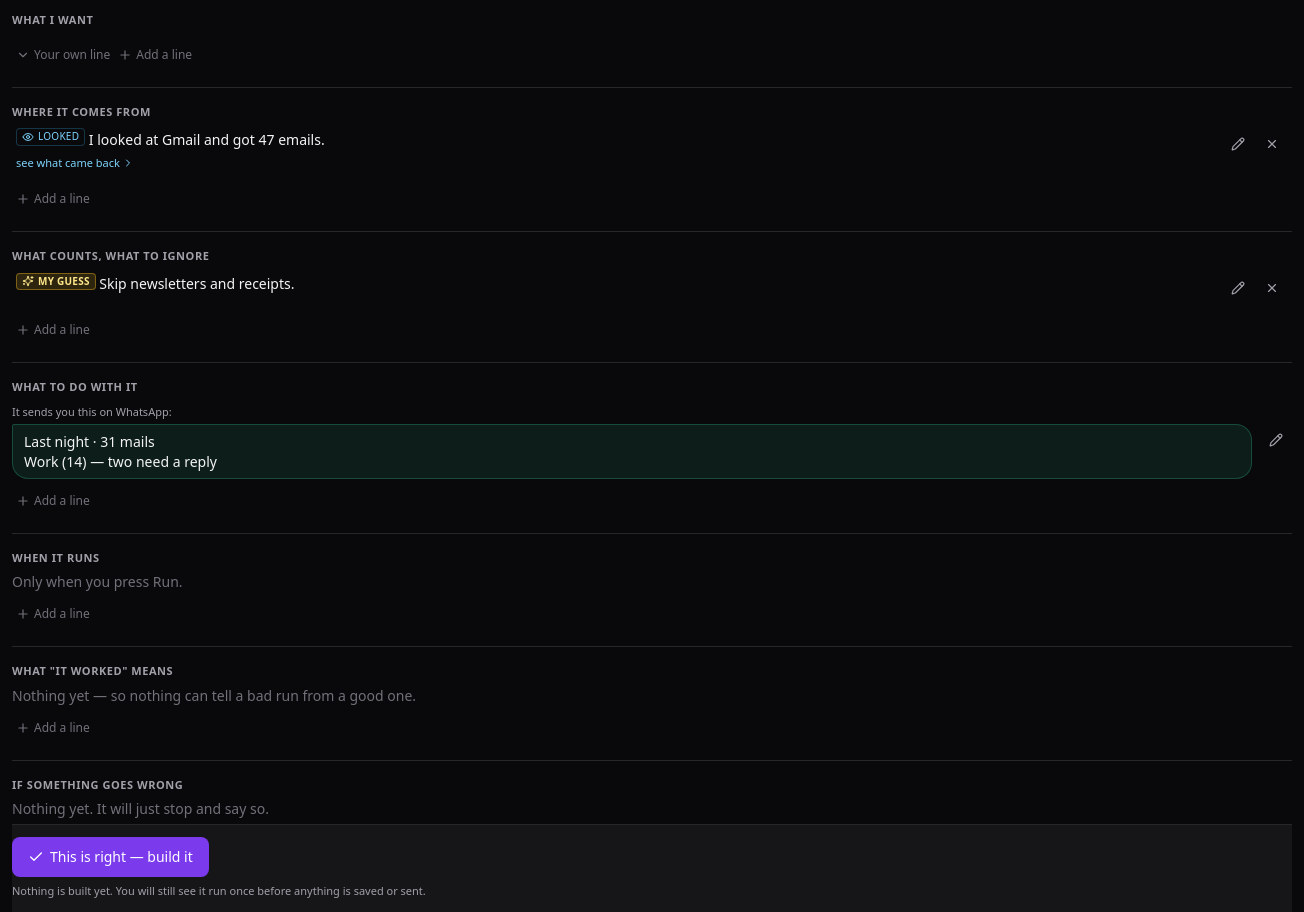
Test: what he sees first › opens his own words when he asks, and folds them again
This screenshot has width=1304, height=912.
What coordinates should you click on to do the following:
click the button with test id "mine-show"
I would click on:
 (63, 54)
Its box is [12,38,114,70].
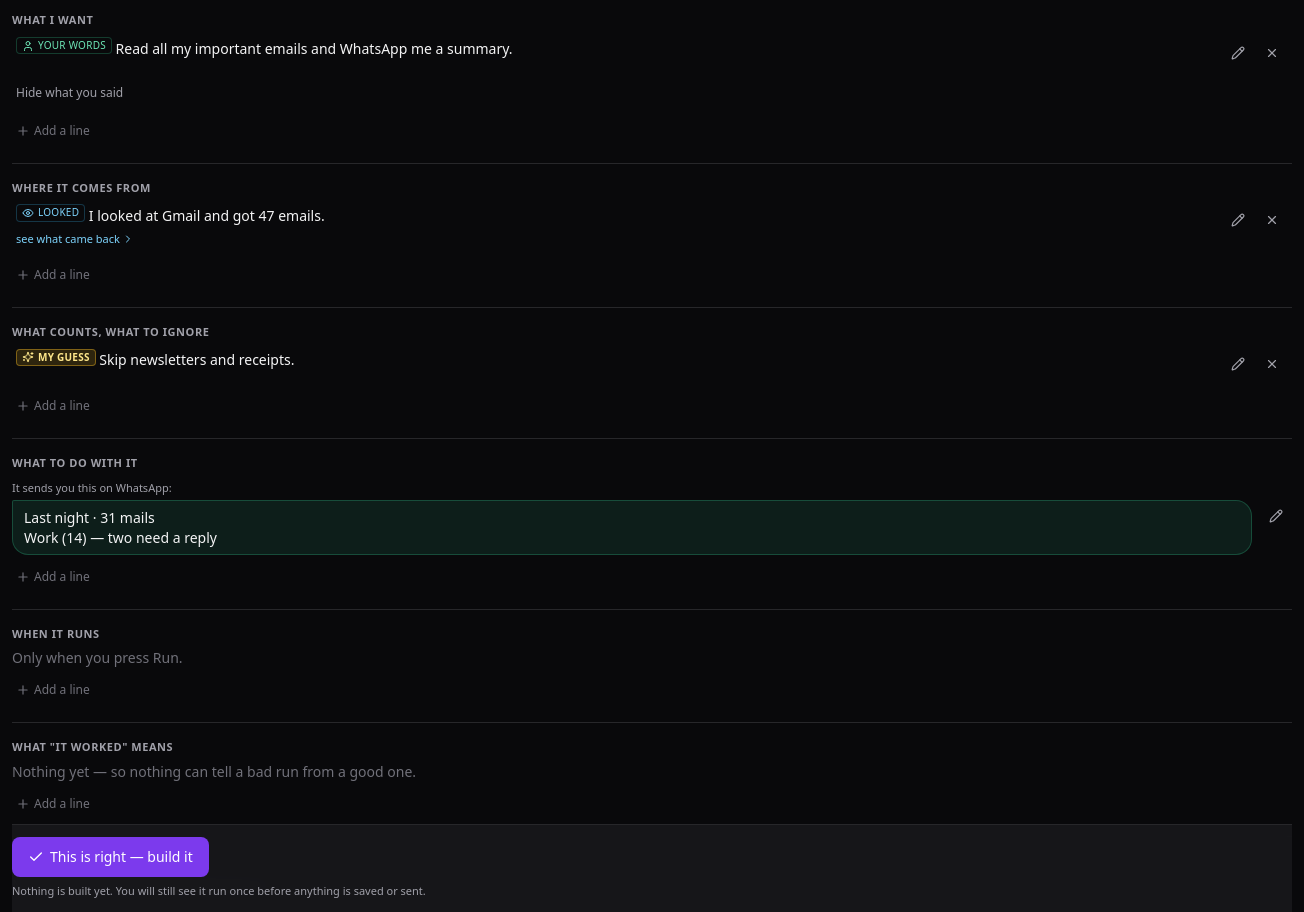
Check: the text "Read all my important emails and WhatsApp me a summary." is shown, box [116,38,513,57]
What coordinates should you click on to do the following:
click the button with test id "mine-hide"
I would click on:
 (70, 92)
Its box is [12,76,127,108].
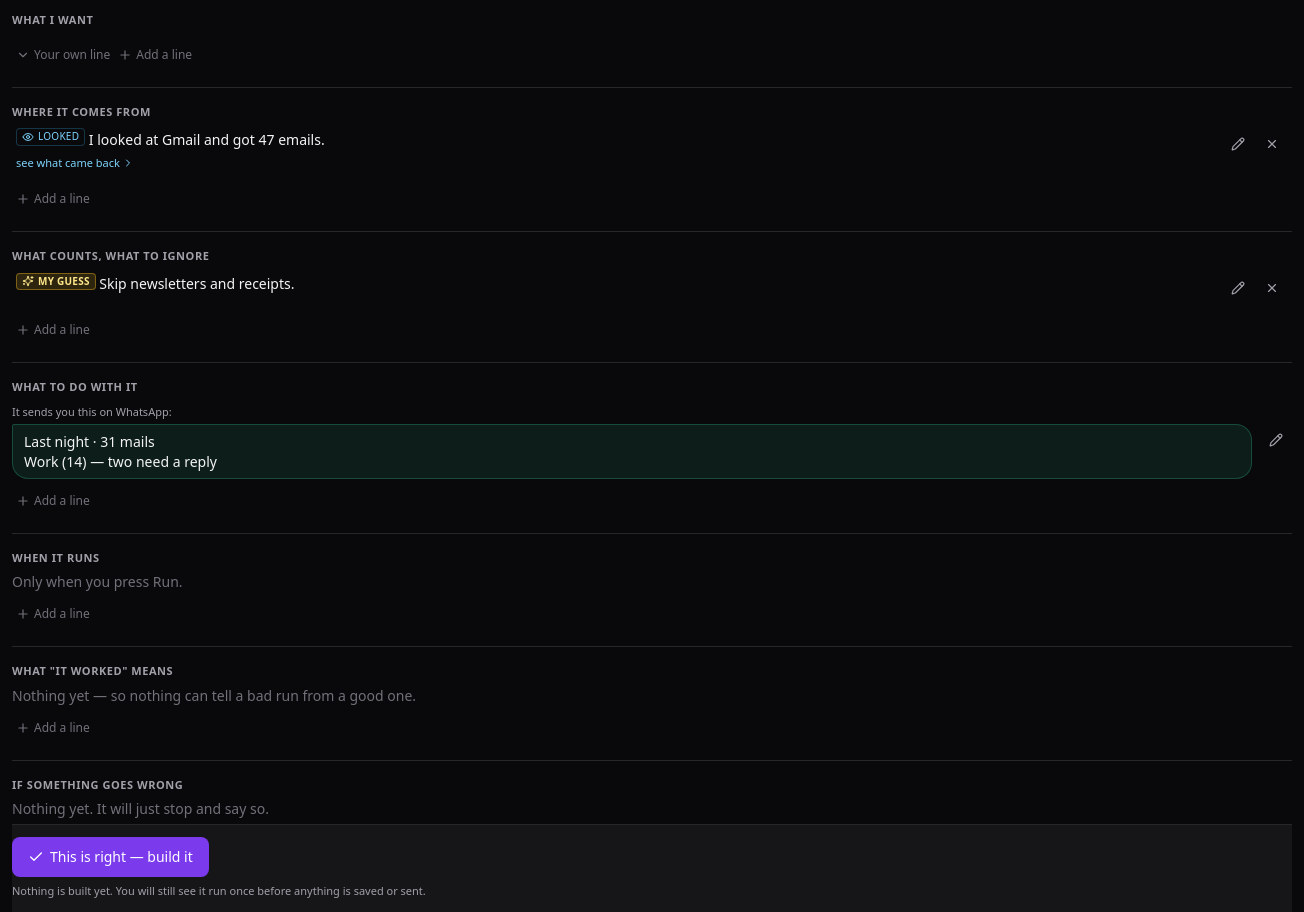
Check: the text "Read all my important emails" is gone
